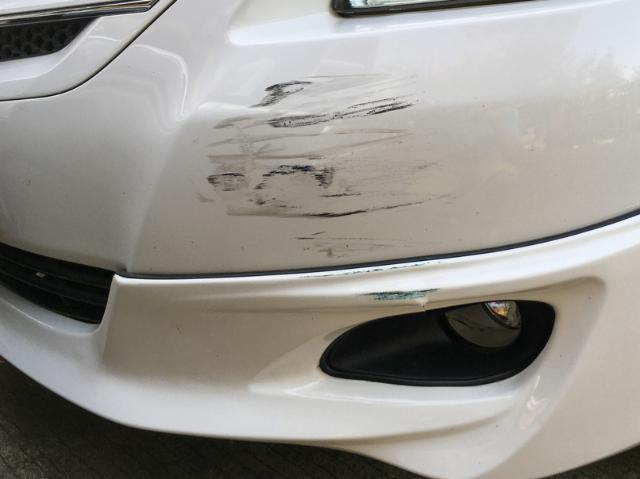Bumper: (137, 41, 640, 266)
